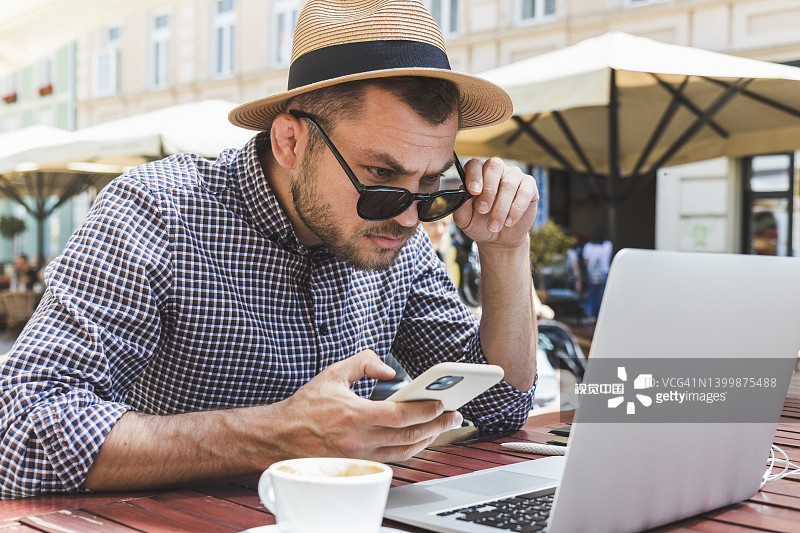no-phone: (452, 150, 546, 255)
reading: (284, 330, 512, 482)
